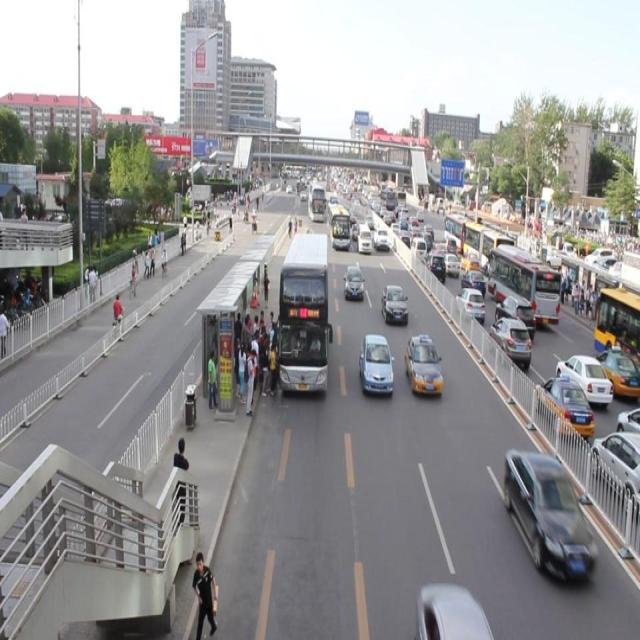car: (503, 449, 596, 581), (404, 334, 440, 396), (360, 334, 391, 395), (380, 283, 408, 325), (344, 264, 361, 299), (372, 226, 387, 252), (363, 214, 374, 230), (346, 210, 357, 225), (351, 226, 360, 240), (329, 192, 337, 205)
truck: (357, 225, 369, 251)
van: (279, 234, 327, 392), (328, 203, 347, 244), (309, 185, 324, 222)
